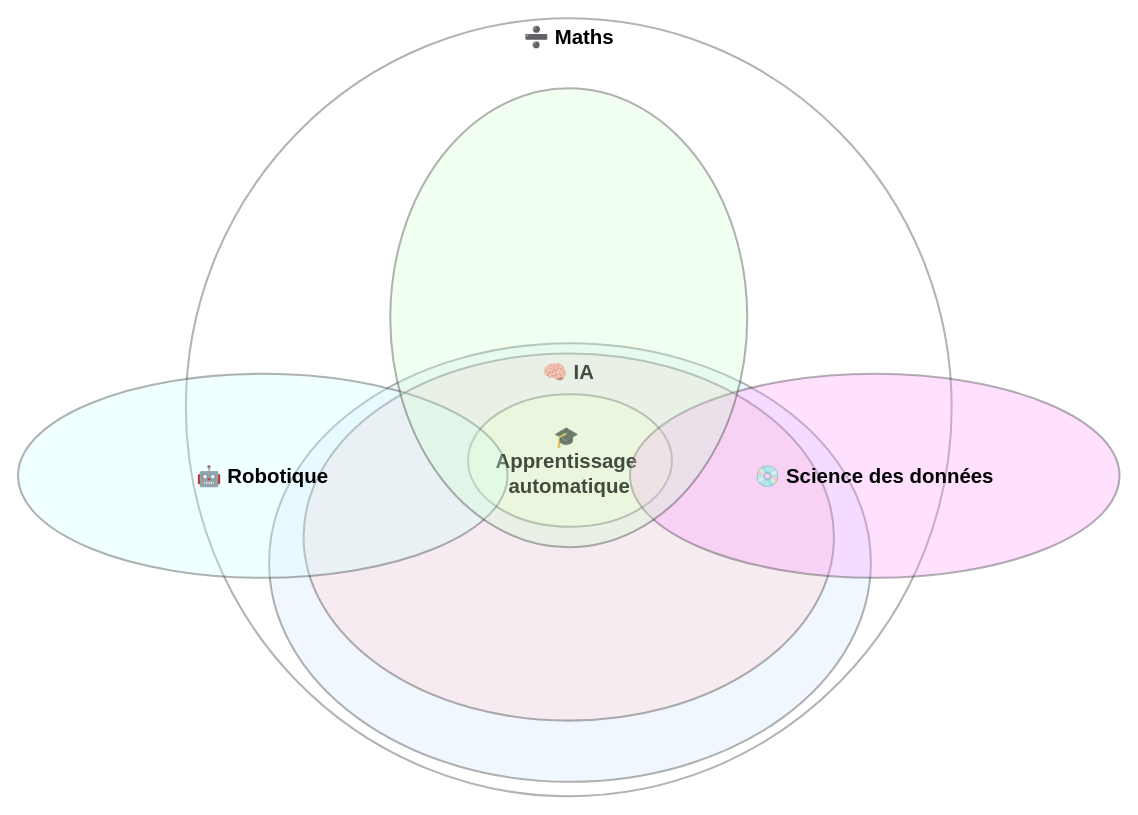
Some shapes in this 1138 by 815 pixel diagram are drawn without their labels. The box of each missing label's shape, as (x1, y1, x2, y2) in pixels:
💻 Informatique: (268, 342, 871, 782)
📈 Statistiques: (389, 87, 748, 548)
